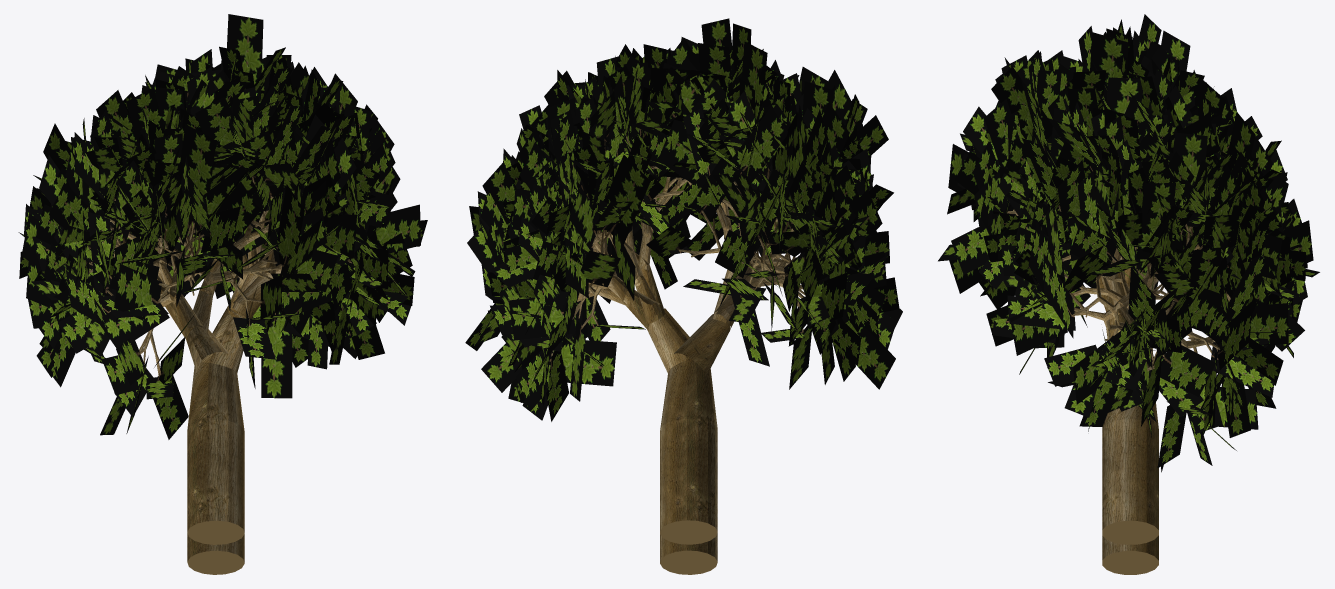
File: tree_maple.glb
3 renders of one model, left to right at view 1: azimuth 30°, elevation 25°; view 2: azimuth 150°, elevation 25°; view 3: azimuth 270°, elevation 25°, orthographic.
Visible parts, largest first — view 1: Trunk, Leaf#430, Leaf#993, Trunk.Stump, Leaf#1430, Leaf#1456, Leaf#343, Leaf#1545, Leaf#1459, Leaf#1649, Leaf#1514, Leaf#1798 (+62 smaller); view 2: Trunk, Leaf#1873, Leaf#674, Trunk.Stump, Leaf#427, Leaf#566, Trunk#8, Leaf#1723, Leaf#1089, Leaf#1850, Leaf#1098, Leaf#1942 (+53 smaller); view 3: Trunk, Leaf#398, Trunk.Stump, Leaf#1561, Leaf#452, Leaf#921, Leaf#342, Leaf#1666, Leaf#1571, Leaf#1522, Leaf#339, Leaf#878 (+78 smaller).
Boxes of the visible parts, bbox=[...] form: Trunk: bbox=[187, 306, 245, 544]; Leaf#430: bbox=[261, 310, 292, 398]; Leaf#993: bbox=[227, 14, 263, 102]; Trunk.Stump: bbox=[187, 533, 244, 574]; Leaf#1430: bbox=[180, 124, 216, 195]; Leaf#1456: bbox=[114, 264, 161, 320]; Leaf#343: bbox=[365, 204, 420, 253]; Leaf#1545: bbox=[277, 184, 304, 273]; Leaf#1459: bbox=[102, 302, 169, 347]; Leaf#1649: bbox=[195, 96, 234, 145]; Leaf#1514: bbox=[233, 317, 275, 359]; Leaf#1798: bbox=[201, 206, 240, 252]; Trunk: bbox=[646, 308, 717, 544]; Leaf#1873: bbox=[730, 106, 787, 184]; Leaf#674: bbox=[599, 154, 650, 244]; Trunk.Stump: bbox=[660, 533, 717, 574]; Leaf#427: bbox=[561, 339, 616, 386]; Leaf#566: bbox=[508, 297, 575, 340]; Trunk#8: bbox=[674, 314, 730, 378]; Leaf#1723: bbox=[842, 315, 895, 389]; Leaf#1089: bbox=[658, 121, 699, 183]; Leaf#1850: bbox=[741, 41, 767, 119]; Leaf#1098: bbox=[690, 157, 739, 220]; Leaf#1942: bbox=[715, 229, 757, 277]; Trunk: bbox=[1102, 348, 1158, 544]; Leaf#398: bbox=[1160, 345, 1216, 397]; Trunk.Stump: bbox=[1102, 535, 1158, 574]; Leaf#1561: bbox=[991, 66, 1052, 142]; Leaf#452: bbox=[1245, 303, 1288, 345]; Leaf#921: bbox=[1136, 183, 1175, 259]; Leaf#342: bbox=[1007, 295, 1075, 330]; Leaf#1666: bbox=[1090, 32, 1128, 82]; Leaf#1571: bbox=[984, 99, 1020, 167]; Leaf#1522: bbox=[951, 227, 989, 274]; Leaf#339: bbox=[1043, 253, 1073, 338]; Leaf#878: bbox=[1073, 331, 1120, 404].
Bounding box in the file's own units: 6.61 × 8.6 × 5.75.
4 materials, 4 textured.
